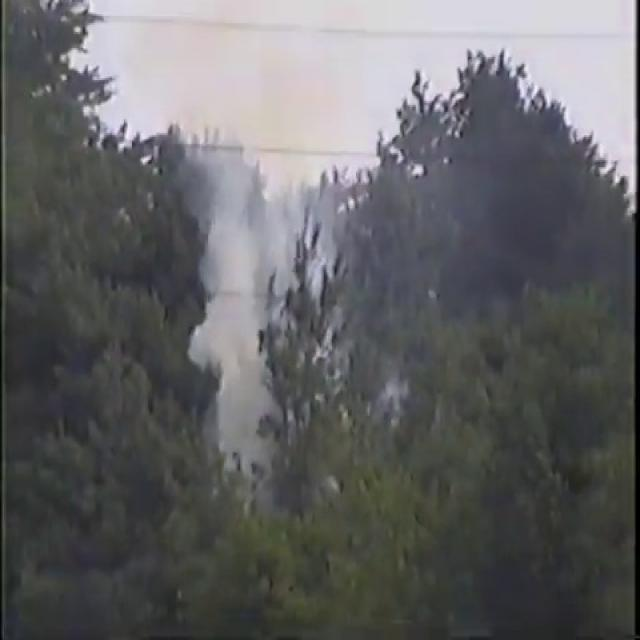Smoke: (184, 68, 346, 481)
